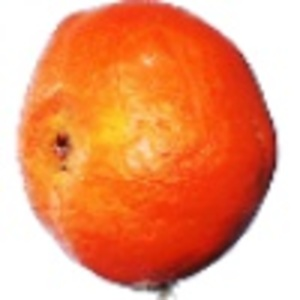tangerina: (1, 2, 281, 300)
